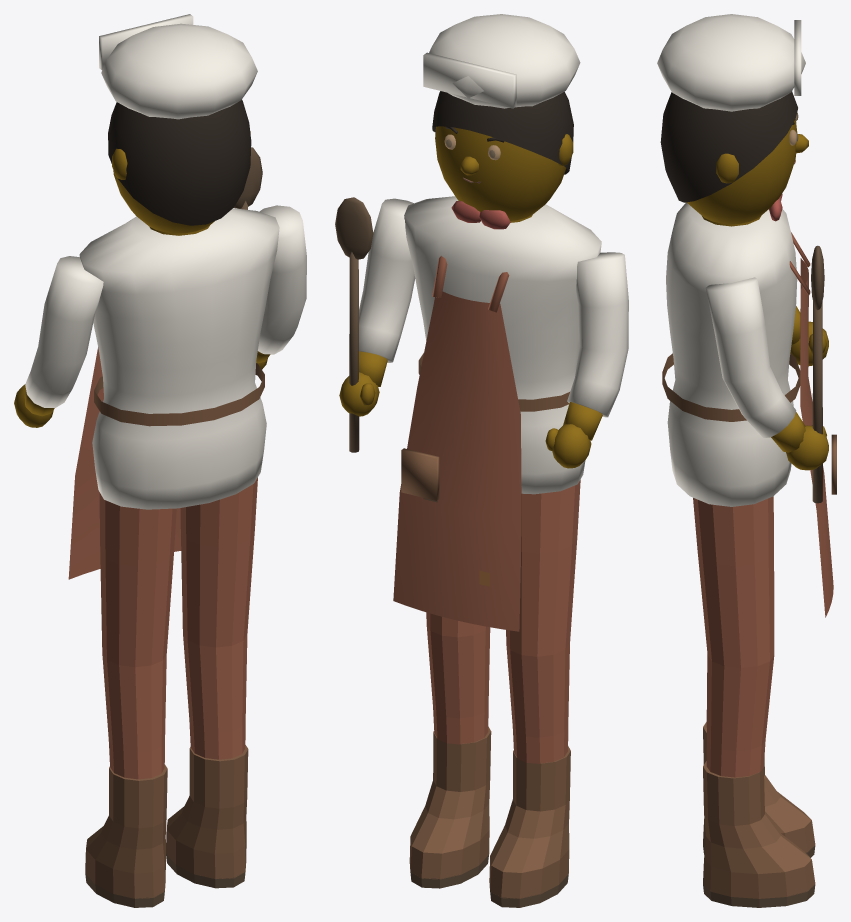
File: SM_NPC_HORNO.glb
3 views of the same model, side by side, from view 1: azimuth 30°, elevation 25°; view 2: azimuth 150°, elevation 25°; view 3: azimuth 270°, elevation 25° (orthographic).
Parts seen in each view (by area): view 1: SM_NPC_HORNO_BODY, SM_NPC_HORNO_LEG_L, SM_NPC_HORNO_LEG_R, SM_NPC_HORNO_HAIR, SM_NPC_HORNO_ARM_L, SM_NPC_HORNO_ARM_R, SM_NPC_HORNO_HEAD; view 2: SM_NPC_HORNO_BODY, SM_NPC_HORNO_LEG_L, SM_NPC_HORNO_HAIR, SM_NPC_HORNO_LEG_R, SM_NPC_HORNO_ARM_R, SM_NPC_HORNO_ARM_L, SM_NPC_HORNO_HEAD; view 3: SM_NPC_HORNO_BODY, SM_NPC_HORNO_LEG_R, SM_NPC_HORNO_HAIR, SM_NPC_HORNO_ARM_R, SM_NPC_HORNO_HEAD, SM_NPC_HORNO_LEG_L, SM_NPC_HORNO_ARM_L.
Part boxes in pixels (box(x1,y1,x2,y2)): SM_NPC_HORNO_BODY: box(68, 208, 279, 579); SM_NPC_HORNO_LEG_L: box(85, 492, 176, 907); SM_NPC_HORNO_LEG_R: box(166, 477, 257, 888); SM_NPC_HORNO_HAIR: box(99, 14, 257, 225); SM_NPC_HORNO_ARM_L: box(14, 256, 103, 427); SM_NPC_HORNO_ARM_R: box(234, 147, 306, 369); SM_NPC_HORNO_HEAD: box(112, 131, 250, 233); SM_NPC_HORNO_BODY: box(393, 196, 601, 631); SM_NPC_HORNO_LEG_L: box(489, 479, 580, 907); SM_NPC_HORNO_HAIR: box(423, 14, 580, 174); SM_NPC_HORNO_LEG_R: box(409, 612, 491, 888); SM_NPC_HORNO_ARM_R: box(335, 197, 415, 452); SM_NPC_HORNO_ARM_L: box(545, 252, 628, 468); SM_NPC_HORNO_HEAD: box(435, 126, 573, 220); SM_NPC_HORNO_BODY: box(662, 194, 836, 617); SM_NPC_HORNO_LEG_R: box(693, 496, 815, 907); SM_NPC_HORNO_HAIR: box(657, 14, 805, 202); SM_NPC_HORNO_ARM_R: box(705, 245, 828, 503); SM_NPC_HORNO_HEAD: box(687, 119, 808, 224); SM_NPC_HORNO_LEG_L: box(703, 496, 815, 857); SM_NPC_HORNO_ARM_L: box(790, 306, 828, 365).
Bounding box in the file's own units: 0.6008 × 1.86 × 0.3582.
